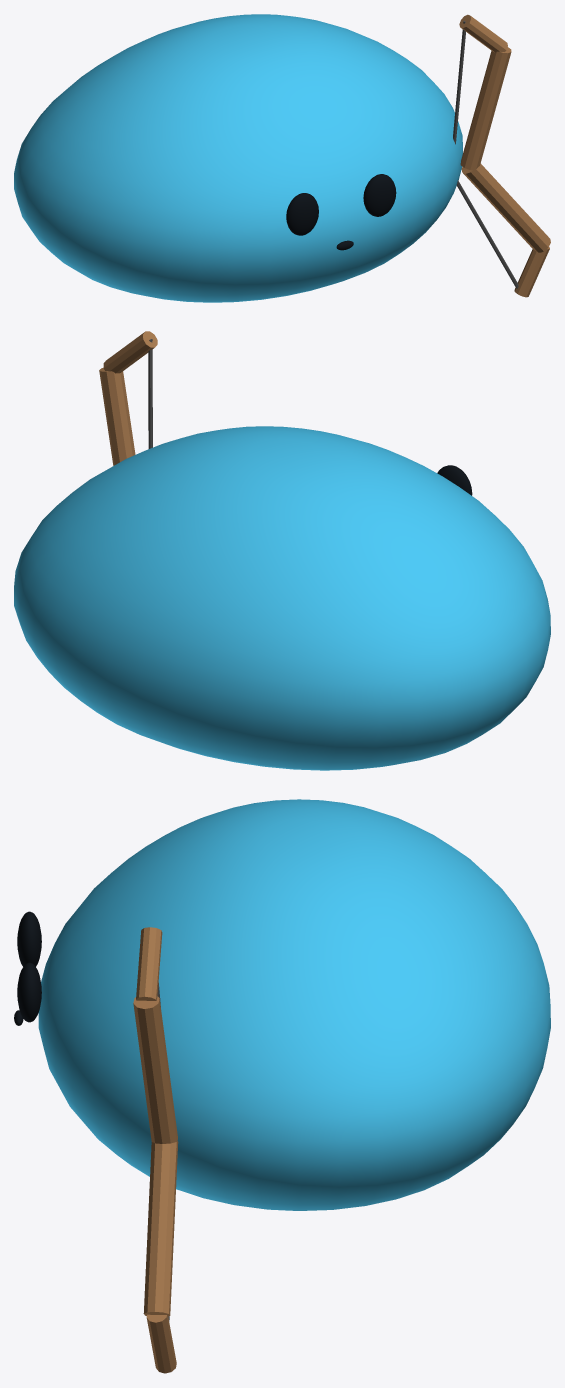
Rendered from archer-slime.glb.
3 renders of one model, top to bottom at view 1: azimuth 30°, elevation 25°; view 2: azimuth 150°, elevation 25°; view 3: azimuth 270°, elevation 25°, orthographic. The views are drawn at different scales.
Parts seen in each view (by area): view 1: Body, Bow_Upper, Bow_Lower, Eye_L, Eye_R, Bow_UpperTip, Bow_LowerTip, Bow_StringLower, Bow_StringUpper; view 2: Body, Bow_Upper, Bow_UpperTip; view 3: Body, Bow_Lower, Bow_Upper, Bow_UpperTip, Bow_LowerTip, Eye_R, Eye_L.
Boxes of the visible parts, x1,y1,x2,y2 form: Body: (14,14,462,302); Bow_Upper: (460,47,511,170); Bow_Lower: (461,163,550,252); Eye_L: (286,193,318,235); Eye_R: (363,174,396,216); Bow_UpperTip: (459,14,507,52); Bow_LowerTip: (514,247,549,297); Bow_StringLower: (456,180,518,288); Bow_StringUpper: (453,20,465,144); Body: (14,426,550,770); Bow_Upper: (99,367,135,465); Bow_UpperTip: (103,331,157,373); Body: (38,799,550,1210); Bow_Lower: (143,1141,178,1316); Bow_Upper: (133,996,177,1143); Bow_UpperTip: (136,927,162,1000); Bow_LowerTip: (146,1314,176,1373); Eye_R: (17,962,41,1022); Eye_L: (17,911,41,966).
Bounding box in the file's own units: 2.65 × 1.66 × 2.
